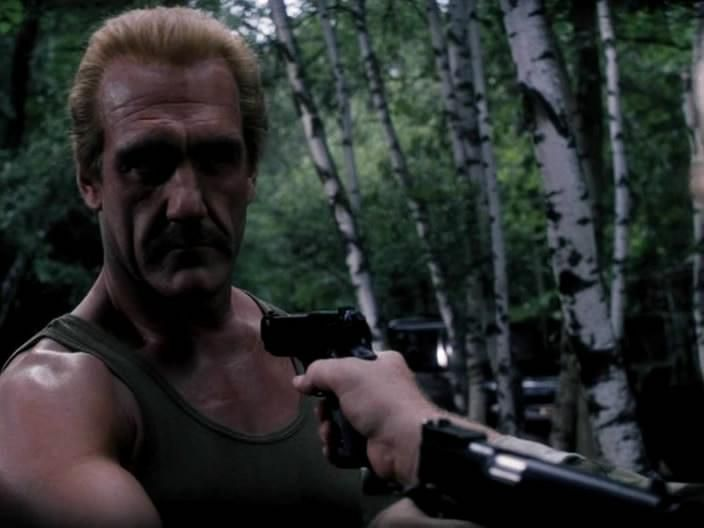gun: (254, 290, 432, 466)
